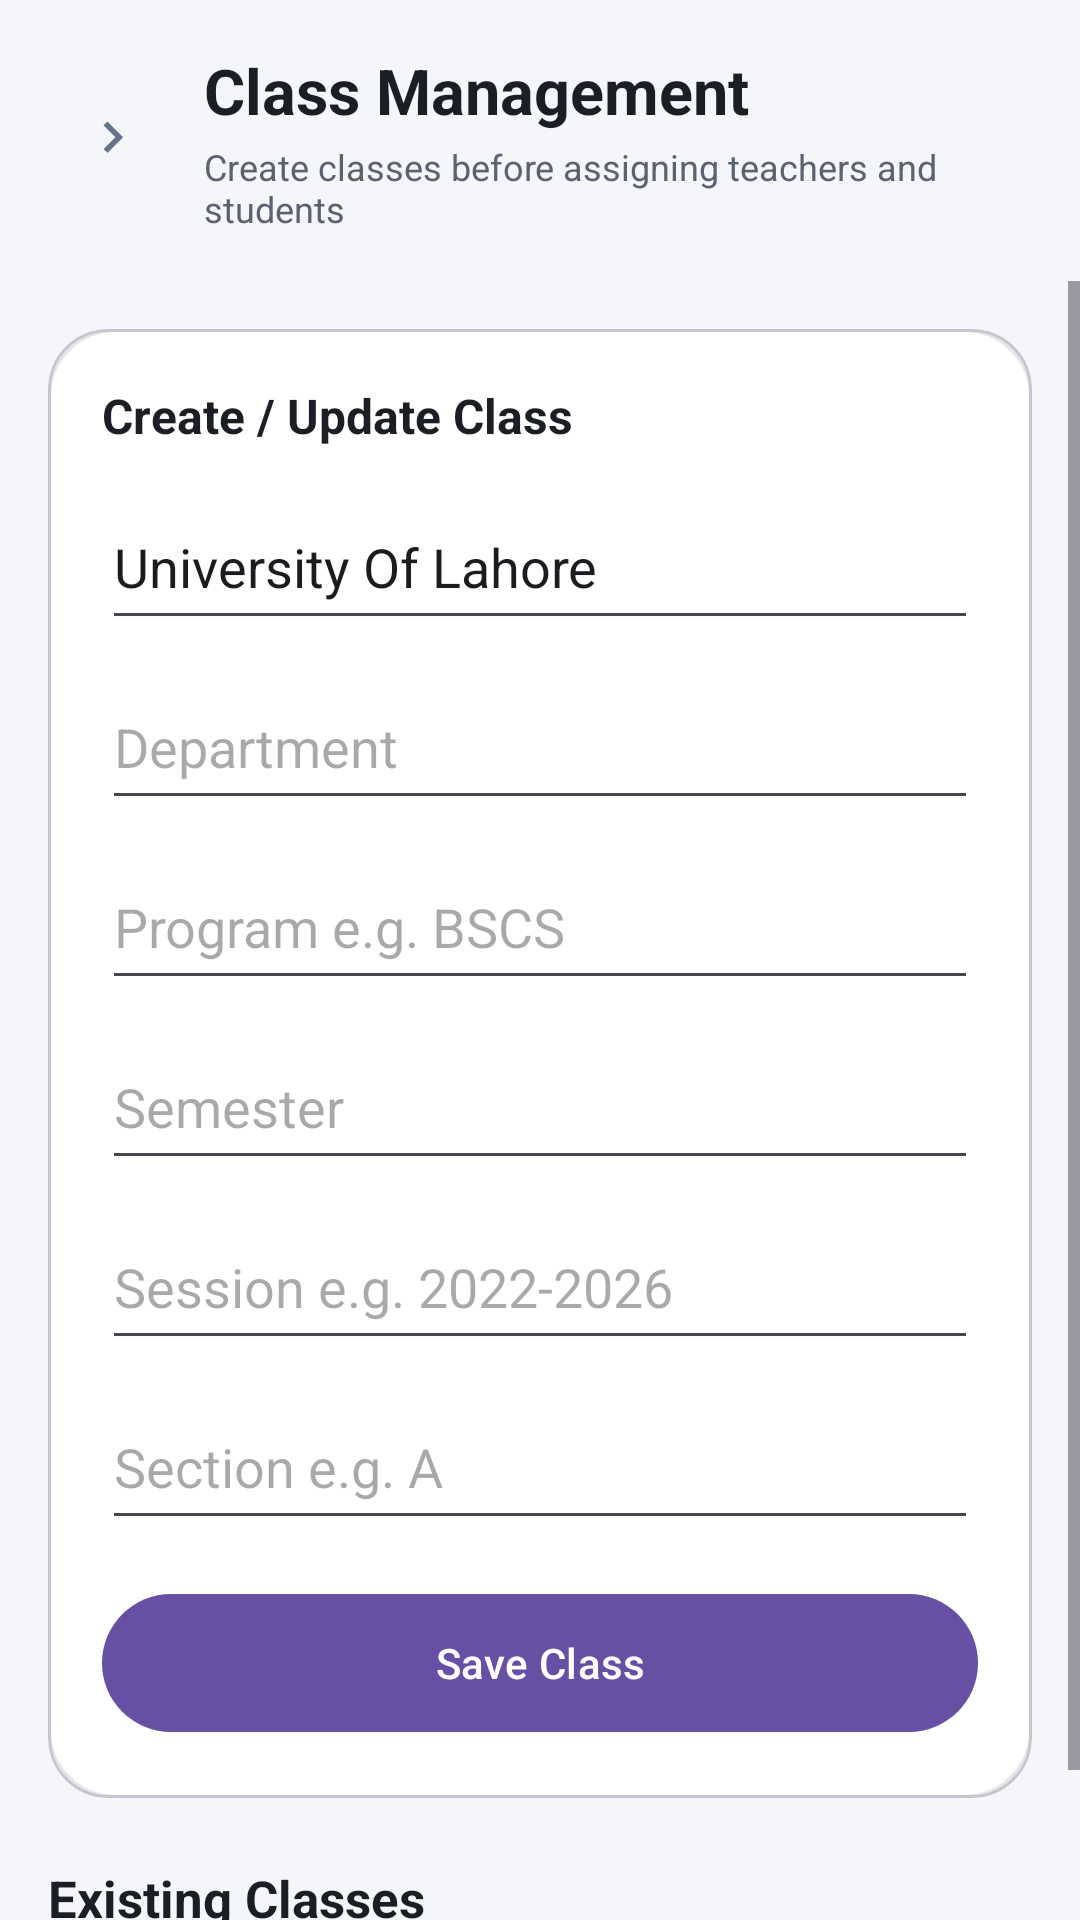

Icons on this 1080*1920 Android screen, each with its box as (x1, y1, x2, y2):
arrow: (103, 121, 123, 153)
